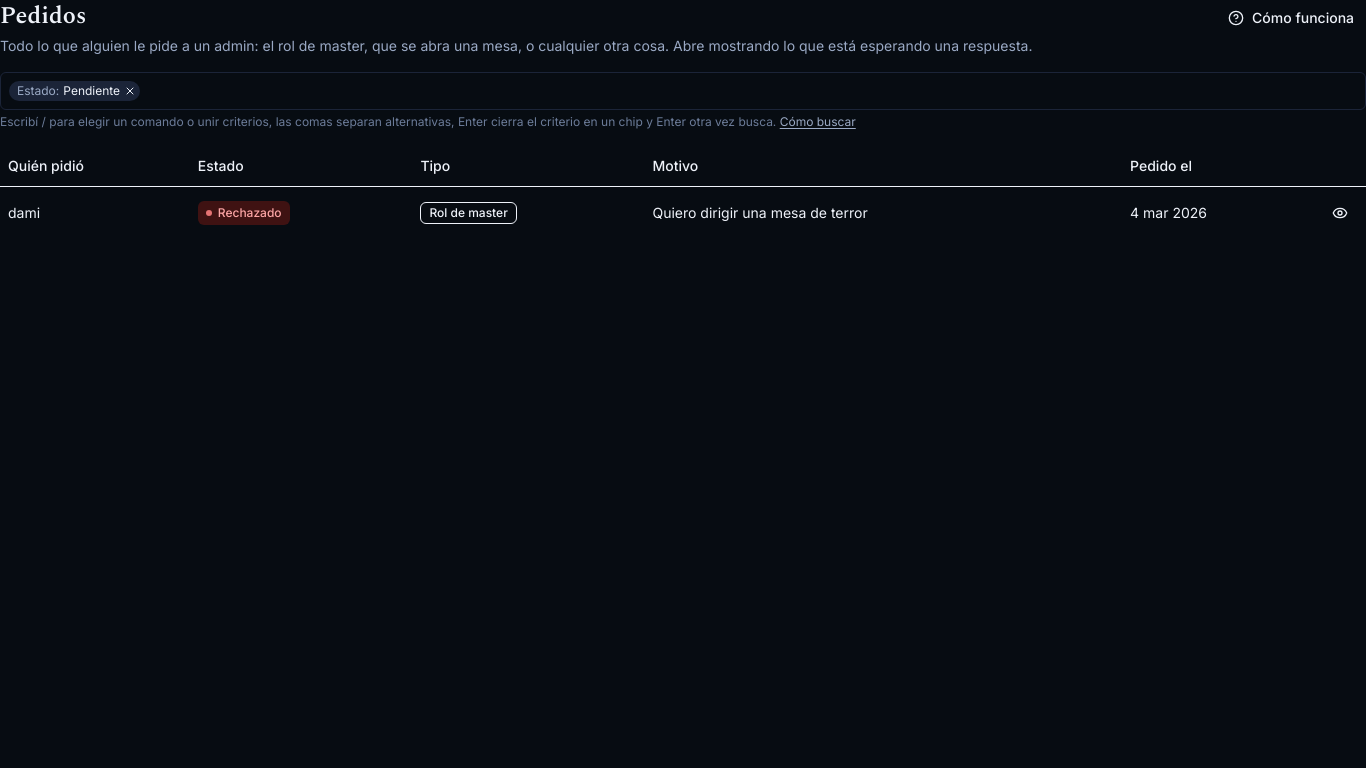
it: AdminRequestsPage › reads the resolution of an answered request from its detail
Click the button named "Ver detalle".
click(1340, 212)  # box [1322,194,1358,230]
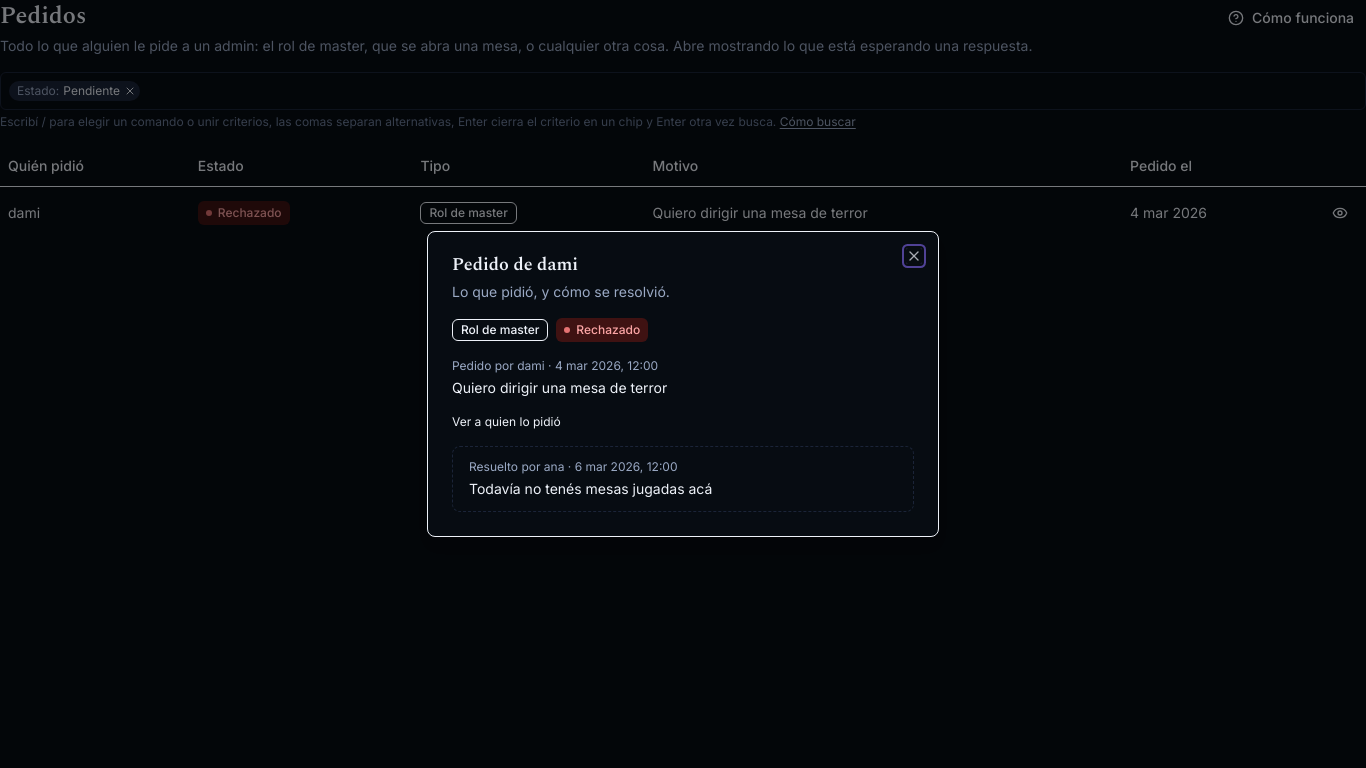
Expected: the text "Todavía no tenés mesas jugadas acá" is shown, [469,480,712,497]
Expected: the text "Resuelto por ana · 6 mar 2026, 12:00" is shown, [469,459,678,474]
